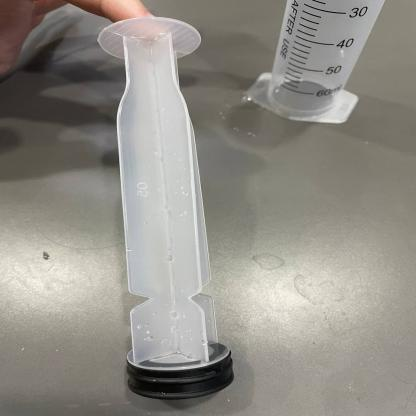wet: (80, 23, 252, 404)
